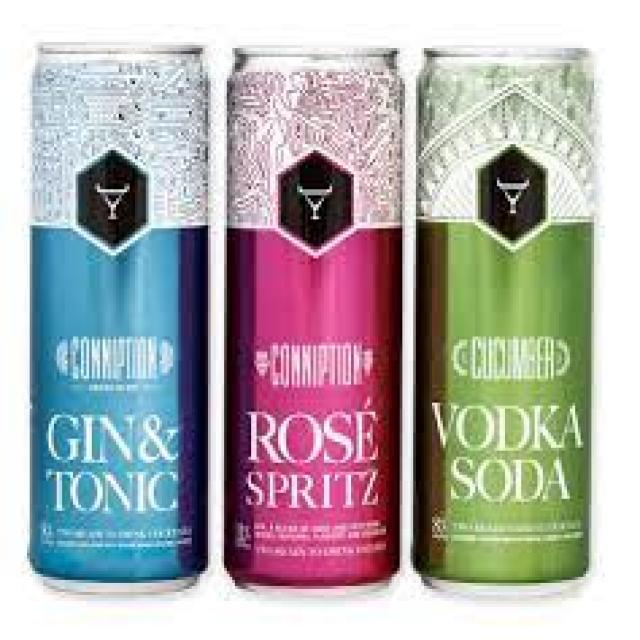Cans: (219, 27, 413, 601), (22, 33, 218, 598), (410, 33, 605, 595)
